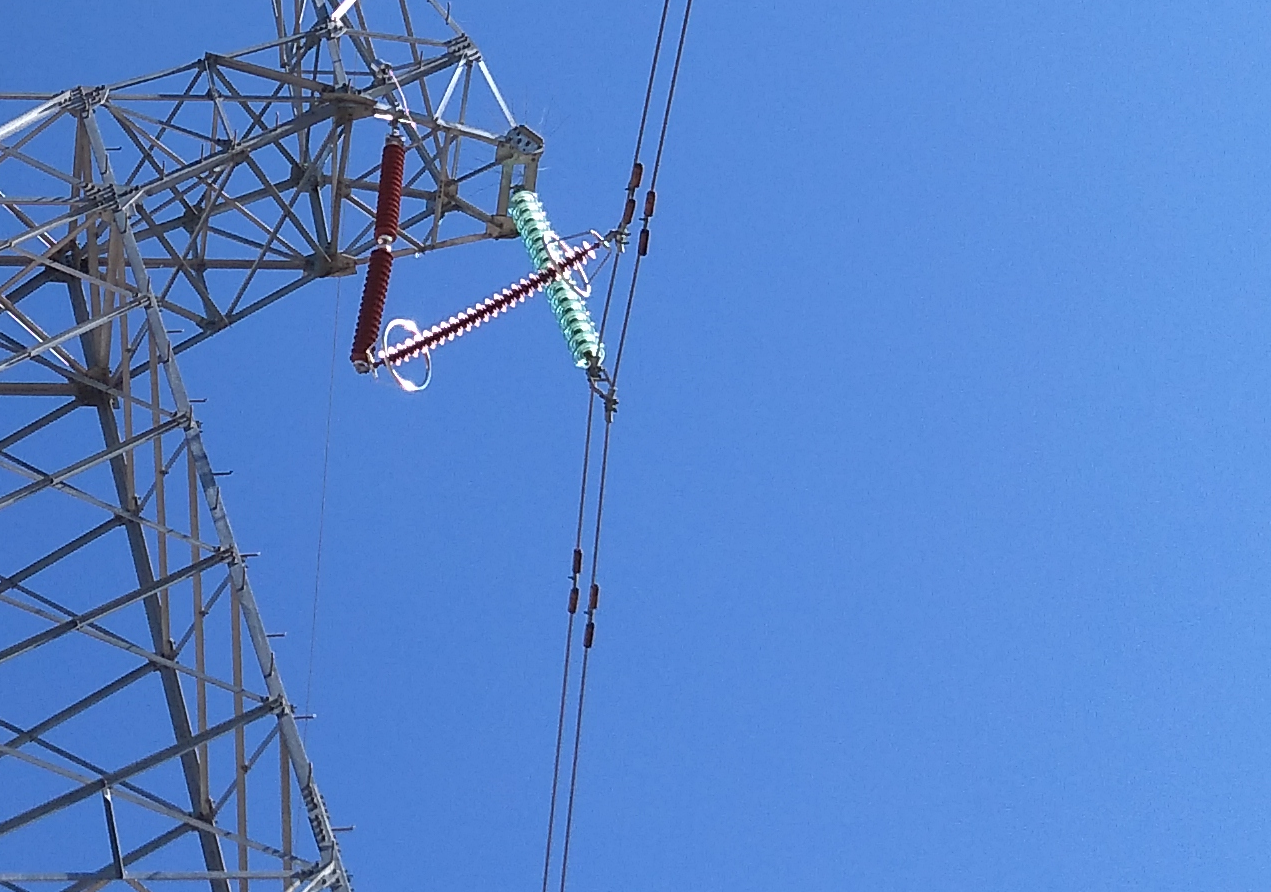damper: (621, 157, 645, 229), (637, 188, 661, 258), (579, 581, 600, 652), (563, 544, 583, 615)
